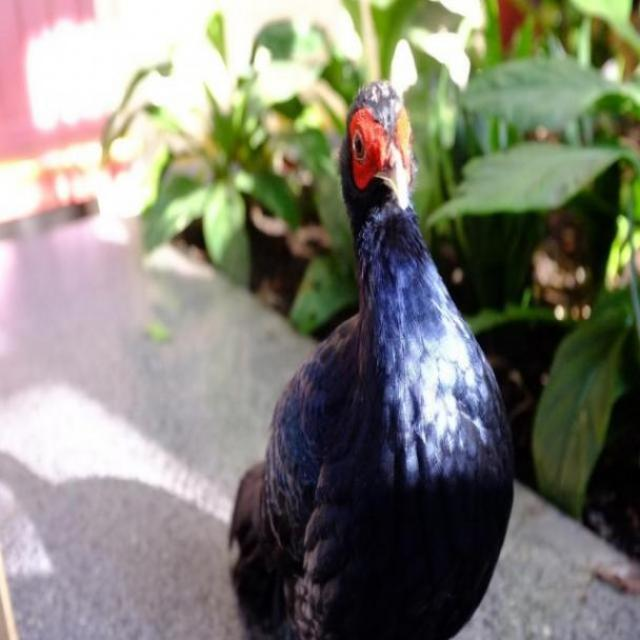Chicken: (244, 82, 511, 640)
